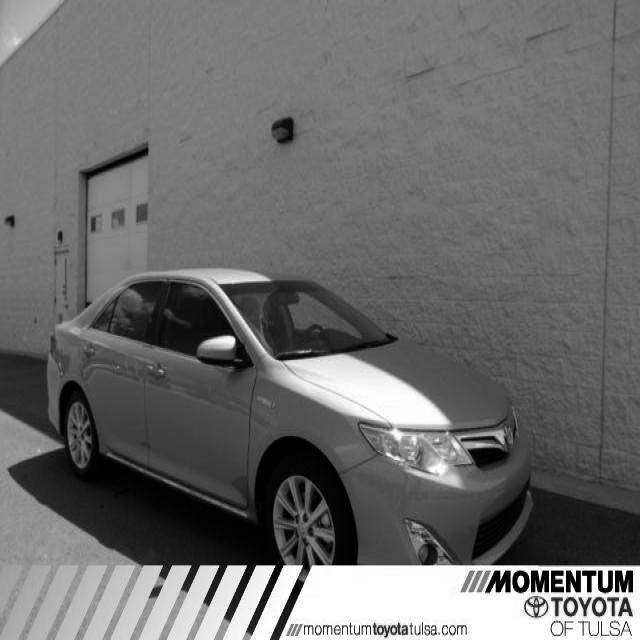car: (45, 265, 534, 567)
